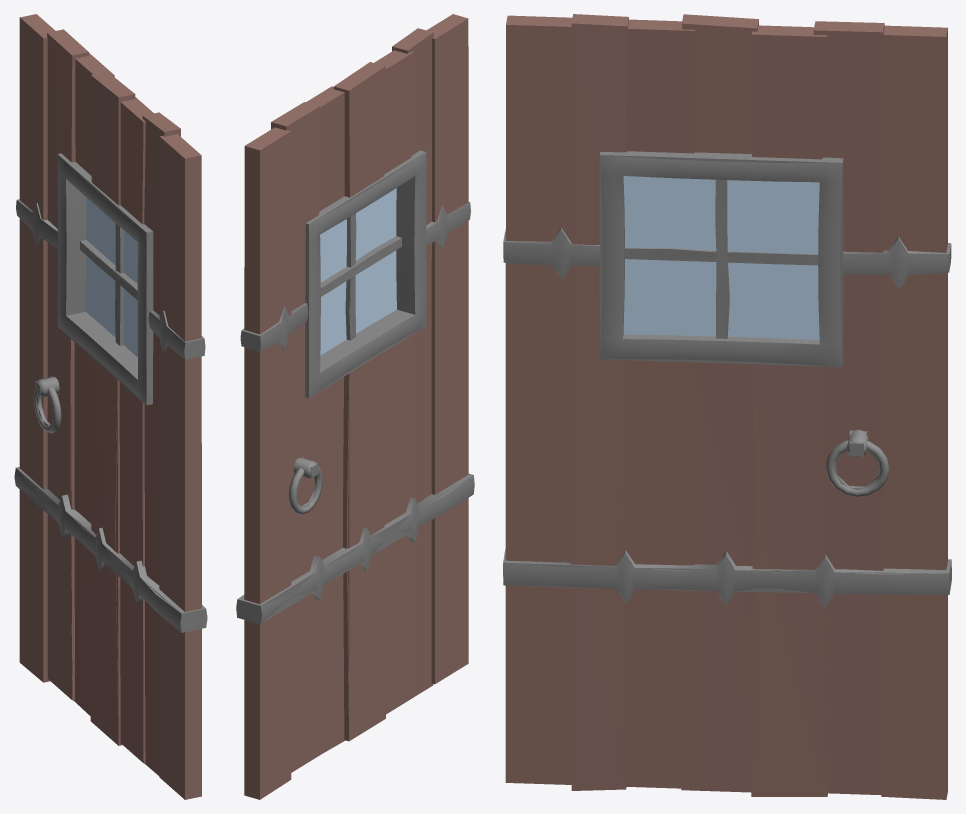
File: Wooden_Door_1_W.fbx
3 views of the same model, side by side, from view 1: azimuth 30°, elevation 25°; view 2: azimuth 150°, elevation 25°; view 3: azimuth 270°, elevation 25° (orthographic). The views are drawn at different scales.
Visible parts, largest first — view 1: Wooden_Door_1_W_LOD0, Wooden_Door_1_W, Wooden_Door_1_Glass; view 2: Wooden_Door_1_W_LOD0, Wooden_Door_1_W, Wooden_Door_1_Glass; view 3: Wooden_Door_1_W_LOD0, Wooden_Door_1_W, Wooden_Door_1_Glass.
Boxes of the visible parts, <box> form: Wooden_Door_1_W_LOD0: <box>16,17,205,799</box>; Wooden_Door_1_W: <box>14,14,207,743</box>; Wooden_Door_1_Glass: <box>85,197,137,357</box>; Wooden_Door_1_W_LOD0: <box>237,19,473,799</box>; Wooden_Door_1_W: <box>236,14,474,754</box>; Wooden_Door_1_Glass: <box>320,188,396,355</box>; Wooden_Door_1_W_LOD0: <box>503,25,951,799</box>; Wooden_Door_1_W: <box>503,14,951,796</box>; Wooden_Door_1_Glass: <box>623,176,819,339</box>.
Bounding box in the file's own units: 0.2135 × 2.18 × 1.15.
